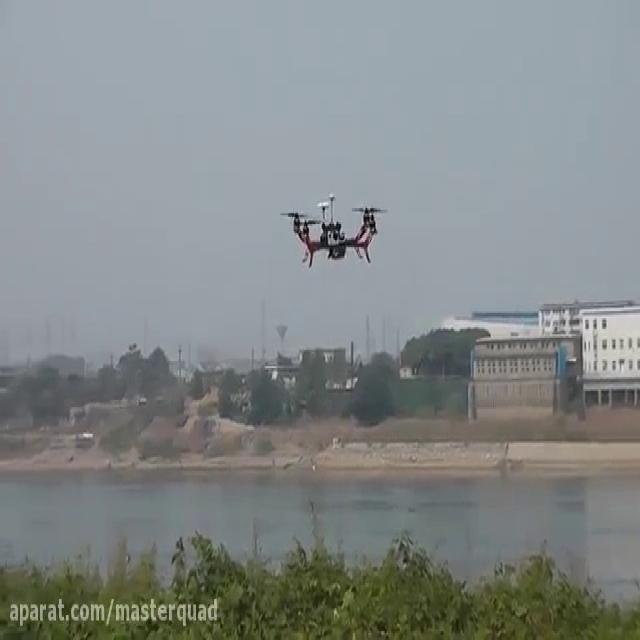drone: (277, 187, 389, 270)
